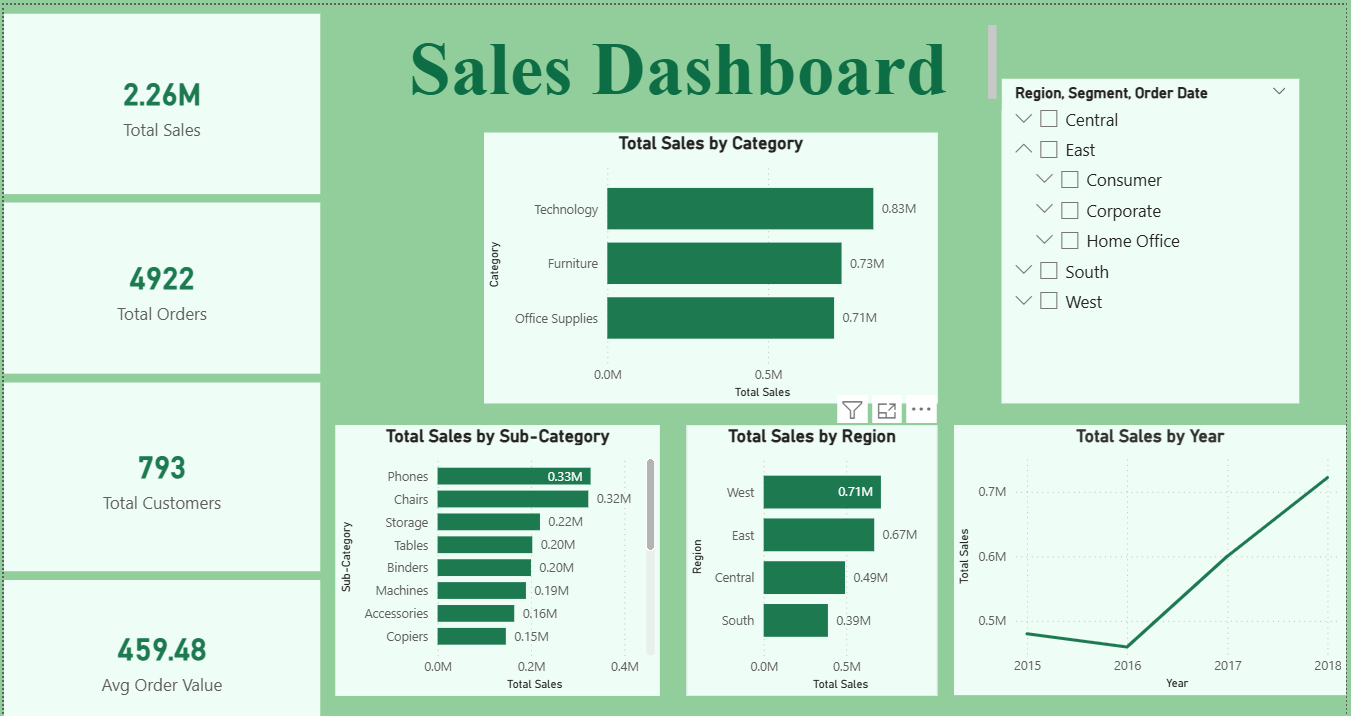

Layout of this report page (visuals, bound fields, positions):
{"tool":"powerbi","page":{"name":"Sales Dashboard","canvas":[1280,720],"ordinal":0},"visuals":[{"type":"card","fields":{"Values":["train.Total Sales"]},"box":[0,8.3,301.6,171.7],"z":0},{"type":"card","fields":{"Values":["train.Total Order"]},"box":[0,188.3,301.6,163.3],"z":1000},{"type":"card","fields":{"Values":["train.Total Customers"]},"box":[0,360,301.6,180],"z":2000},{"type":"card","fields":{"Values":["train.Avg Order Value"]},"box":[0,548.3,301.6,151.4],"z":3000},{"type":"lineChart","fields":{"Category":["train.Order Date.Variation.Date Hierarchy.Year","train.Order Date.Variation.Date Hierarchy.Month"],"Y":["train.Total Sales"]},"box":[905.9,400.5,374.3,257.5],"z":4000},{"type":"barChart","fields":{"Category":["train.Category"],"Y":["train.Total Sales"]},"box":[457.7,121.6,432.7,258.7],"z":5000},{"type":"barChart","fields":{"Category":["train.Region"],"Y":["train.Total Sales"]},"box":[650.8,400.5,239.6,258.7],"z":6000},{"type":"barChart","fields":{"Category":["train.Sub-Category"],"Y":["train.Total Sales"]},"box":[315.9,400.5,309.9,258.7],"z":7000},{"type":"slicer","fields":{"Values":["train.Region","train.Segment","train.Order Date"]},"box":[951.2,70.3,283.7,309.9],"z":8000},{"type":"textbox","box":[343.3,14.3,607.9,85.8],"z":8001}]}

Visuals, with their boxes on the page's 1280x720 design canvas (x1, y1, x2, y2). These are canvas units, not pixel positions in the 1352x716 screenshot, which may show the page scaled, cropped or inside an application window:
card - train.Total Sales: locate(0, 8, 302, 180)
card - train.Total Order: locate(0, 188, 302, 352)
card - train.Total Customers: locate(0, 360, 302, 540)
card - train.Avg Order Value: locate(0, 548, 302, 700)
lineChart - train.Order Date.Variation.Date Hierarchy.Year x train.Order Date.Variation.Date Hierarchy.Month: locate(906, 400, 1280, 658)
barChart - train.Category x train.Total Sales: locate(458, 122, 890, 380)
barChart - train.Region x train.Total Sales: locate(651, 400, 890, 659)
barChart - train.Sub-Category x train.Total Sales: locate(316, 400, 626, 659)
slicer - train.Region x train.Segment: locate(951, 70, 1235, 380)
textbox: locate(343, 14, 951, 100)
